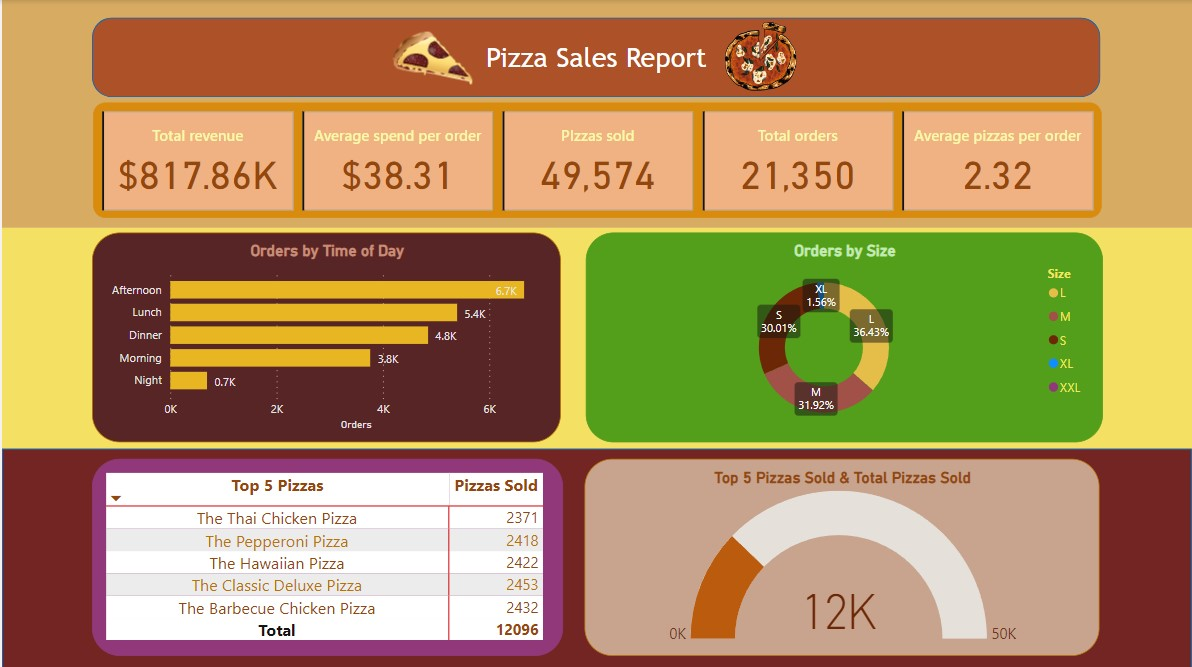

The page's visual inventory and layout, read from the dashboard file:
{"tool":"powerbi","page":{"name":"Duplicate of Page 1","canvas":[1280,720],"ordinal":1},"visuals":[{"type":"shape","box":[0,244.6,1280.5,244.6],"z":0},{"type":"shape","box":[0,483,1280,237],"z":1000},{"type":"shape","box":[0,0,1280.5,244.6],"z":2000},{"type":"cardVisual","fields":{"Data":["Sum(total_revenue.total_revenue)","Sum(avg_spend.avg_spend)","Sum(pizzas_sold.total_pizzas_sold)","Sum(total_orders.total_orders)","Sum(avg_pizza.avg_pizza_per_order)"]},"box":[98.6,110,1084.3,124.3],"z":3000},{"type":"shape","box":[97.1,18.6,1084.3,85.7],"z":8000},{"type":"image","box":[415.7,14.3,95.7,95.7],"z":9000},{"type":"image","box":[760,8.6,108.6,104.3],"z":10000},{"type":"barChart","title":"Orders by Time of Day","fields":{"Category":["daily_trends.order_time"],"Y":["Sum(daily_trends.total_orders)"]},"box":[97.1,250,504.3,225.7],"z":10001},{"type":"donutChart","title":"Orders by Size","fields":{"Category":["rev_across_pizza_sizes.size"],"Y":["Sum(rev_across_pizza_sizes.total_orders)"]},"box":[627.1,250,555.7,225.7],"z":10002},{"type":"pivotTable","fields":{"Rows":["top_5_pizzas_by_orders.name"],"Values":["Sum(top_5_pizzas_by_orders.pizzas_sold)"]},"box":[96.7,493.3,506.7,211.7],"z":10003},{"type":"gauge","title":"Top 5 Pizzas Sold & Total Pizzas Sold","fields":{"Y":["Sum(top_5_pizzas_by_orders.pizzas_sold)"],"MaxValue":["Sum(pizzas_sold.total_pizzas_sold)"]},"box":[626.7,493.3,553.3,211.7],"z":10004}]}

Visuals, with their boxes in screenshot pixels (x1, y1, x2, y2), scaled from the page's 1280x720 canvas onto the 1192x667 screenshot:
shape: BBox(0, 227, 1191, 453)
shape: BBox(0, 447, 1191, 666)
shape: BBox(0, 0, 1191, 227)
cardVisual - Sum(total_revenue.total_revenue) x Sum(avg_spend.avg_spend): BBox(92, 102, 1102, 217)
shape: BBox(90, 17, 1100, 97)
image: BBox(387, 13, 476, 102)
image: BBox(708, 8, 809, 105)
"Orders by Time of Day" barChart: BBox(90, 232, 560, 441)
"Orders by Size" donutChart: BBox(584, 232, 1101, 441)
pivotTable - top_5_pizzas_by_orders.name x Sum(top_5_pizzas_by_orders.pizzas_sold): BBox(90, 457, 562, 653)
"Top 5 Pizzas Sold & Total Pizzas Sold" gauge: BBox(584, 457, 1099, 653)
